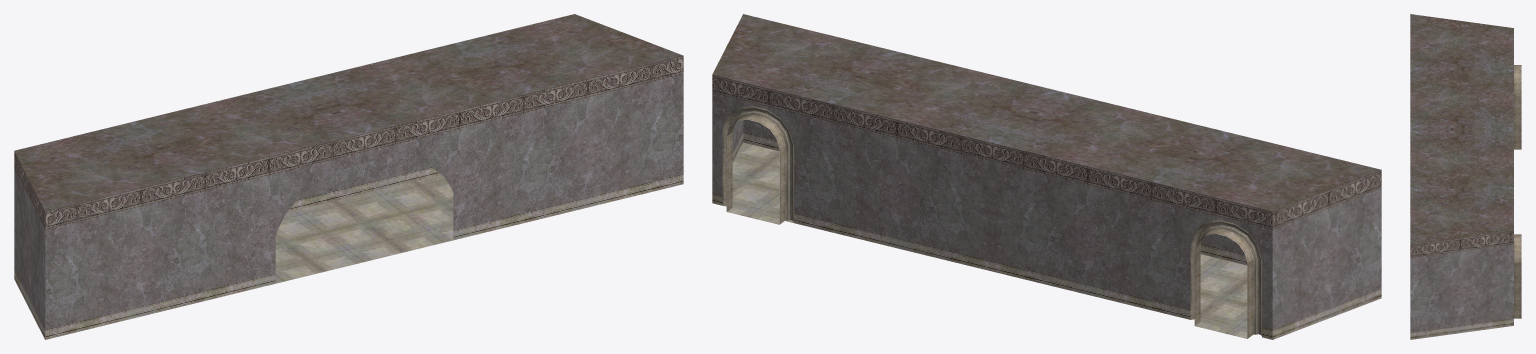
File: mun_nboo_capitol_s01_r4_foyer3_mesh_foyer3.fbx
The picture shows the model from 3 angles, left to right: view 1: azimuth 30°, elevation 25°; view 2: azimuth 150°, elevation 25°; view 3: azimuth 270°, elevation 25°; orthographic projection. The views are drawn at different scales.
Visible parts, largest first — view 1: mesh_node; view 2: mesh_node; view 3: mesh_node.
Part boxes in pixels (x1=…): mesh_node: x1=14, y1=14, x2=683, y2=339; mesh_node: x1=712, y1=14, x2=1381, y2=339; mesh_node: x1=1410, y1=14, x2=1521, y2=339.
Bounding box in the file's own units: 19.8 × 3.81 × 4.05.
